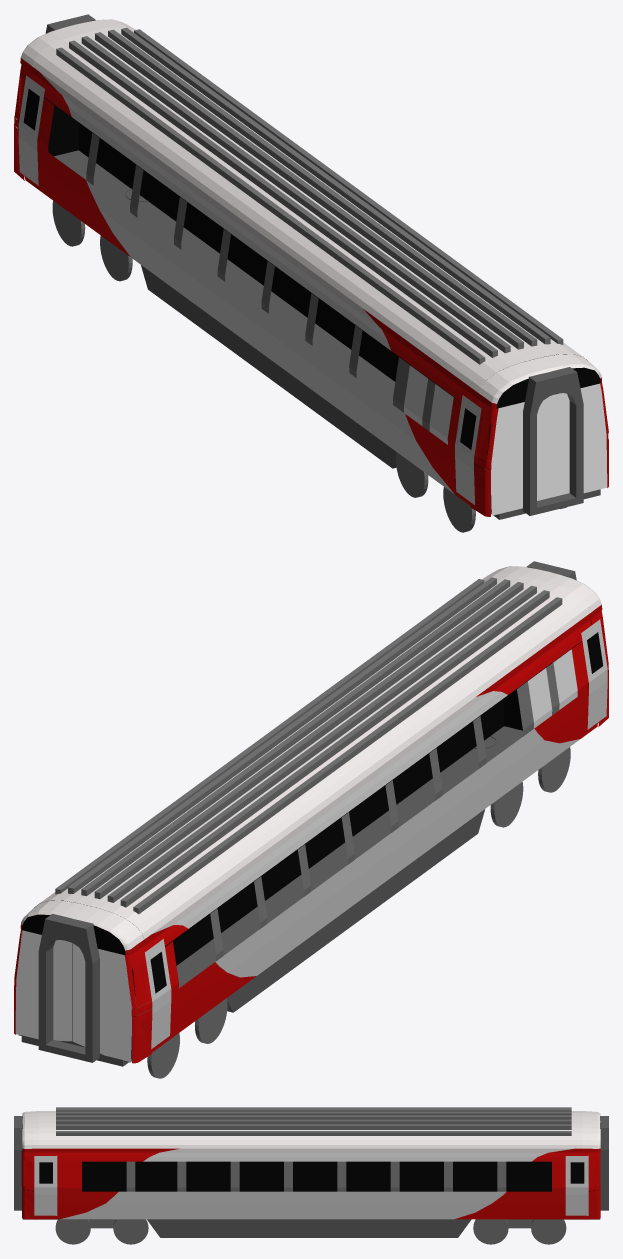
Rendered from br-mk4-to-vtec.dae.
The picture shows the model from 3 angles, top to bottom: view 1: azimuth 30°, elevation 25°; view 2: azimuth 150°, elevation 25°; view 3: azimuth 270°, elevation 25°; orthographic projection. The views are drawn at different scales.
Parts seen in each view (by area): view 1: Suzanne_001, Plane_035, Plane_100, Plane_111, Plane_002, Cube_002, Cube_008, Cube_004, Cube_003, Cube, Tube_002, Cube_009 (+17 smaller); view 2: Suzanne_001, Plane_035, Plane_001, Plane_111, Plane_002, Tube_003, Cube_002, Cube_008, Cube, Cube_004, Cube_003, Cube_009 (+16 smaller); view 3: Plane_007, Plane_111, Suzanne_001, Cube, Plane_153, Cube_009, Cube_010, Cube_004, Cube_008, Cube_011, Plane_005, Plane_152 (+28 smaller).
Part boxes in pixels (x1=…): Suzanne_001: x1=31, y1=27, x2=587, y2=398; Plane_035: x1=25, y1=151, x2=470, y2=505; Plane_100: x1=491, y1=383, x2=607, y2=515; Plane_111: x1=78, y1=122, x2=449, y2=393; Plane_002: x1=24, y1=150, x2=486, y2=469; Cube_002: x1=69, y1=40, x2=497, y2=357; Cube_008: x1=95, y1=32, x2=523, y2=349; Cube_004: x1=81, y1=36, x2=510, y2=353; Cube_003: x1=56, y1=47, x2=485, y2=364; Cube: x1=141, y1=265, x2=396, y2=468; Tube_002: x1=522, y1=367, x2=583, y2=515; Cube_009: x1=108, y1=29, x2=537, y2=346; Suzanne_001: x1=34, y1=573, x2=590, y2=945; Plane_035: x1=152, y1=695, x2=597, y2=1052; Plane_001: x1=15, y1=930, x2=132, y2=1062; Plane_111: x1=72, y1=698, x2=503, y2=1041; Plane_002: x1=58, y1=722, x2=598, y2=1055; Tube_003: x1=38, y1=913, x2=99, y2=1062; Cube_002: x1=120, y1=590, x2=549, y2=907; Cube_008: x1=94, y1=582, x2=523, y2=899; Cube: x1=227, y1=809, x2=485, y2=1012; Cube_004: x1=107, y1=585, x2=536, y2=902; Cube_003: x1=133, y1=597, x2=562, y2=914; Cube_009: x1=81, y1=579, x2=510, y2=896; Plane_007: x1=39, y1=1195, x2=582, y2=1219; Plane_111: x1=24, y1=1161, x2=597, y2=1191; Suzanne_001: x1=39, y1=1111, x2=582, y2=1152; Cube: x1=147, y1=1219, x2=471, y2=1237; Plane_153: x1=39, y1=1152, x2=582, y2=1157; Cube_009: x1=56, y1=1119, x2=571, y2=1124; Cube_010: x1=56, y1=1124, x2=571, y2=1129; Cube_004: x1=56, y1=1111, x2=571, y2=1115; Cube_008: x1=56, y1=1115, x2=571, y2=1119; Cube_011: x1=56, y1=1131, x2=571, y2=1135; Plane_005: x1=57, y1=1191, x2=565, y2=1195; Plane_152: x1=57, y1=1157, x2=565, y2=1161.
Bounding box in the file's own units: 2.11 × 13.39 × 2.81.
